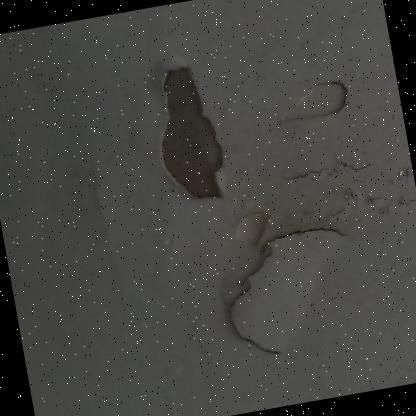Crack: (186, 189, 378, 374), (122, 48, 244, 215), (256, 125, 415, 247), (246, 47, 374, 142)
